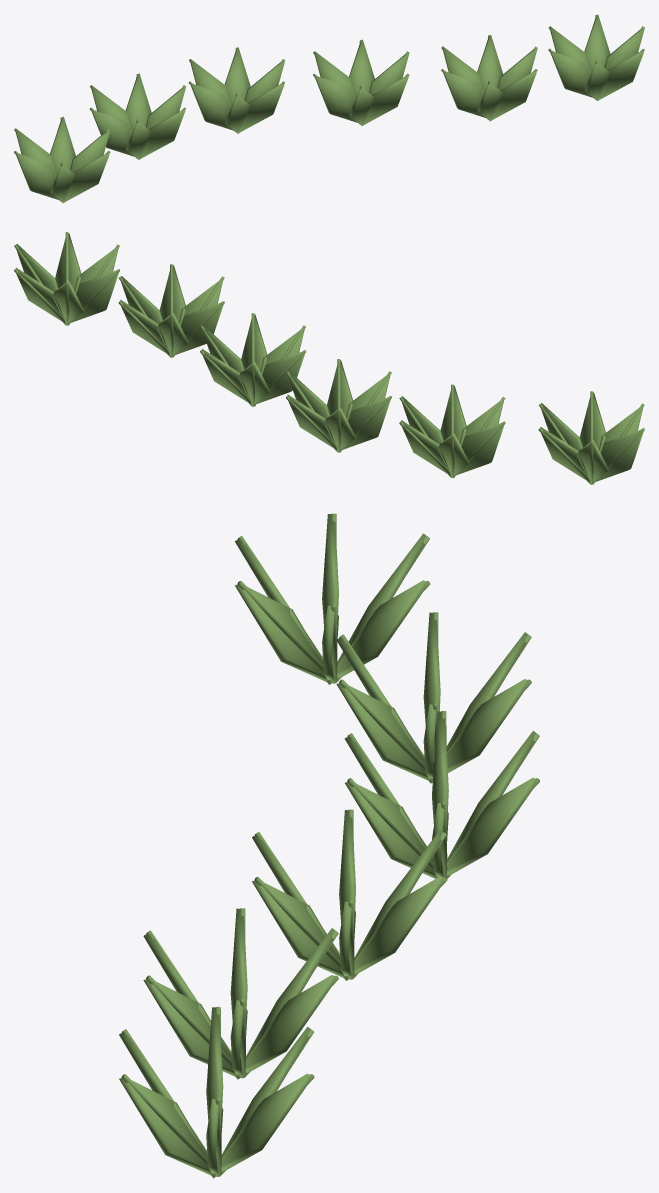
Rendered from fern_set.glb.
3 views of the same model, one above another, from view 1: azimuth 30°, elevation 25°; view 2: azimuth 150°, elevation 25°; view 3: azimuth 270°, elevation 25° (orthographic). The views are drawn at different scales.
Visible parts, largest first — view 1: Fern0_3, Fern4_3, Fern2_3, Fern3_3, Fern5_3, Fern1_3, Fern4_5, Fern0_5, Fern2_5, Fern3_5, Fern1_5, Fern5_5 (+24 smaller); view 2: Fern2_3, Fern5_3, Fern1_3, Fern0_3, Fern3_3, Fern4_3, Fern0_1, Fern4_1, Fern1_1, Fern2_1, Fern3_1, Fern5_1 (+24 smaller); view 3: Fern5_1, Fern2_1, Fern4_1, Fern3_1, Fern1_5, Fern5_5, Fern0_5, Fern1_1, Fern0_1, Fern2_5, Fern3_5, Fern4_5 (+17 smaller).
Boxes of the visible parts, x1=… form: Fern0_3: x1=16, y1=152, x2=59, y2=200; Fern4_3: x1=443, y1=70, x2=486, y2=118; Fern2_3: x1=190, y1=83, x2=234, y2=130; Fern3_3: x1=315, y1=75, x2=358, y2=123; Fern5_3: x1=550, y1=50, x2=593, y2=97; Fern1_3: x1=91, y1=109, x2=134, y2=156; Fern4_5: x1=489, y1=71, x2=536, y2=121; Fern0_5: x1=62, y1=153, x2=109, y2=203; Fern2_5: x1=237, y1=84, x2=284, y2=133; Fern3_5: x1=361, y1=76, x2=408, y2=126; Fern1_5: x1=138, y1=110, x2=185, y2=159; Fern5_5: x1=596, y1=51, x2=643, y2=100; Fern2_3: x1=342, y1=396, x2=391, y2=449; Fern5_3: x1=71, y1=269, x2=119, y2=322; Fern1_3: x1=456, y1=421, x2=505, y2=475; Fern0_3: x1=596, y1=428, x2=644, y2=481; Fern3_3: x1=257, y1=350, x2=306, y2=403; Fern4_3: x1=175, y1=301, x2=224, y2=354; Fern0_1: x1=540, y1=427, x2=589, y2=479; Fern4_1: x1=119, y1=299, x2=169, y2=352; Fern1_1: x1=400, y1=420, x2=450, y2=473; Fern2_1: x1=287, y1=394, x2=336, y2=447; Fern3_1: x1=201, y1=348, x2=250, y2=401; Fern5_1: x1=15, y1=267, x2=64, y2=320; Fern5_1: x1=221, y1=1073, x2=312, y2=1171; Fern2_1: x1=447, y1=777, x2=538, y2=875; Fern4_1: x1=245, y1=975, x2=336, y2=1072; Fern3_1: x1=354, y1=876, x2=445, y2=974; Fern1_5: x1=336, y1=683, x2=430, y2=780; Fern5_5: x1=119, y1=1078, x2=212, y2=1175; Fern0_5: x1=235, y1=584, x2=328, y2=681; Fern1_1: x1=447, y1=679, x2=530, y2=772; Fern0_1: x1=337, y1=580, x2=428, y2=678; Fern2_5: x1=345, y1=782, x2=437, y2=878; Fern3_5: x1=252, y1=880, x2=345, y2=977; Fern4_5: x1=143, y1=979, x2=237, y2=1076.
Size of the model in its own units: 3.45 by 0.3495 by 1.05.
